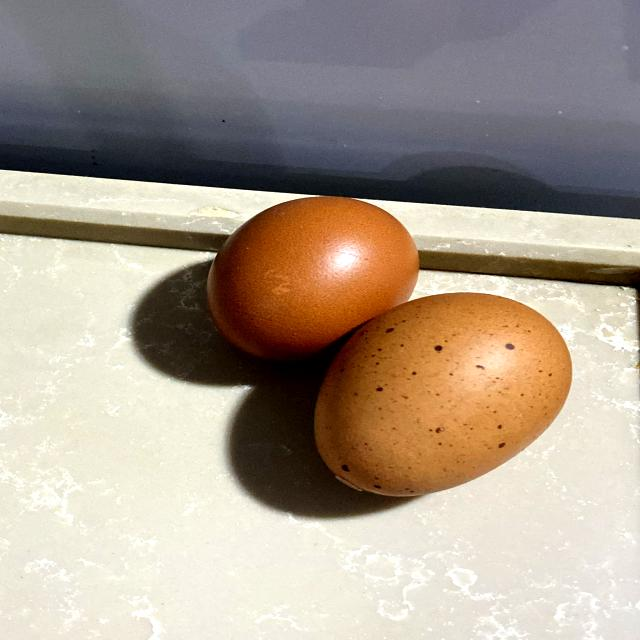egg: (308, 290, 575, 498), (204, 194, 425, 364)
